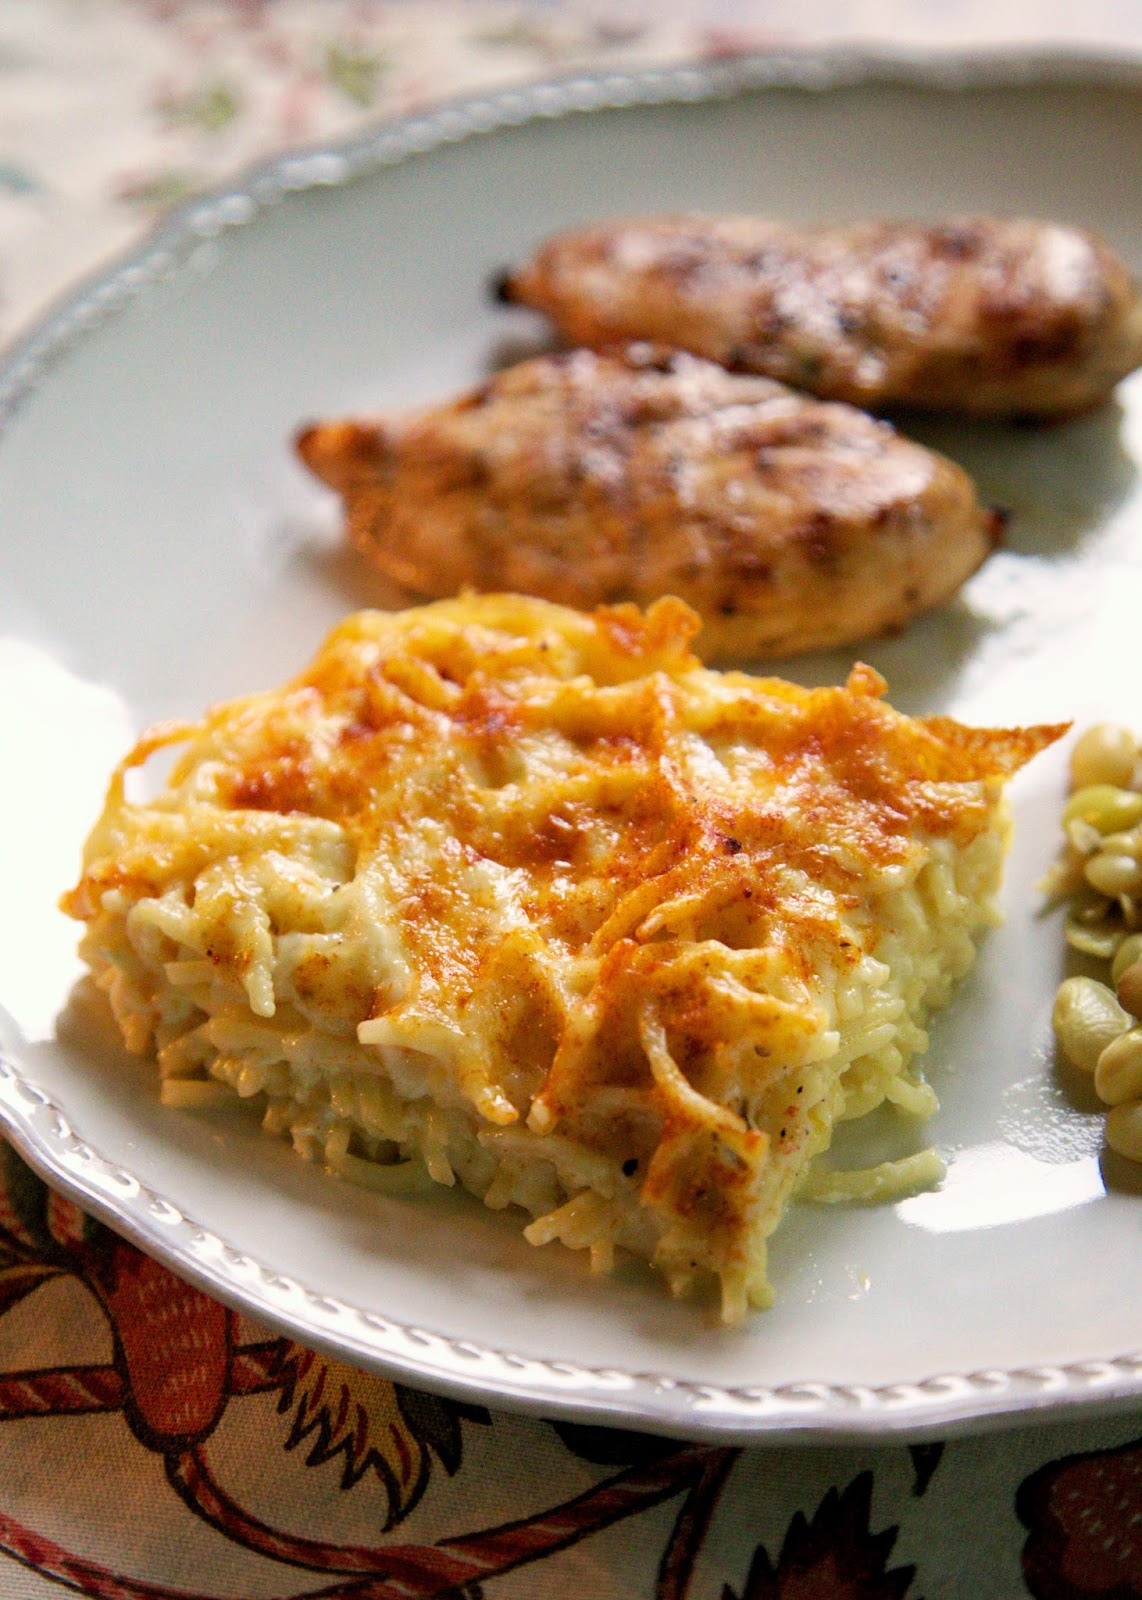plain spaghetti: (129, 613, 965, 1274)
